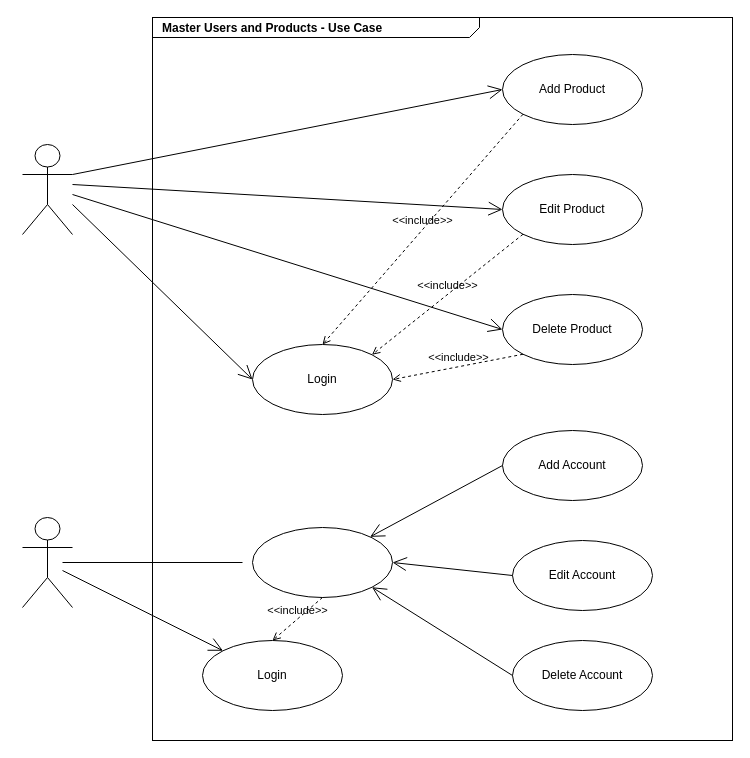
This 750x758 diagram has some shape labels left out. Each missing label, with the centre of its shape:
Admin: (47,562)
Manage Accounts: (322,562)
User - Staff: (47,189)
